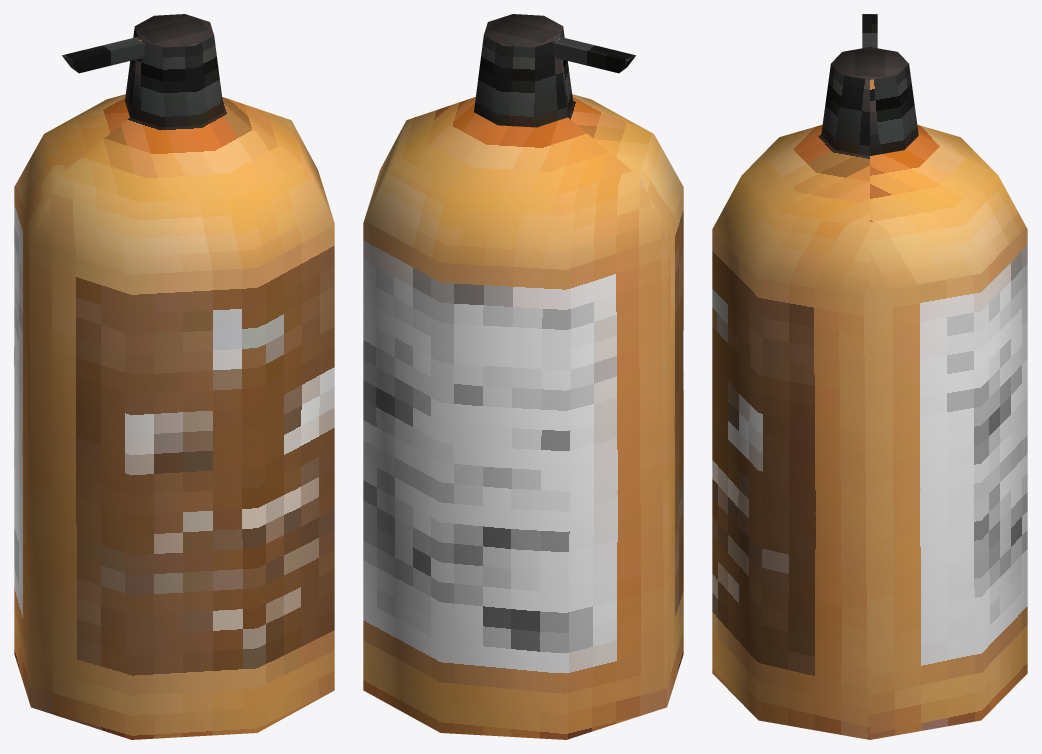
The model's file is Shampoo002.glb.
The picture shows the model from 3 angles, left to right: view 1: azimuth 30°, elevation 25°; view 2: azimuth 150°, elevation 25°; view 3: azimuth 270°, elevation 25°; orthographic projection. The views are drawn at different scales.
Visible parts, largest first — view 1: shampoo.002; view 2: shampoo.002; view 3: shampoo.002.
Part boxes in pixels (x1=…): shampoo.002: x1=14, y1=14, x2=334, y2=739; shampoo.002: x1=363, y1=14, x2=683, y2=739; shampoo.002: x1=712, y1=14, x2=1027, y2=739.
Bounding box in the file's own units: 0.0965 × 0.2059 × 0.0965.
Materials: 1 (1 with a texture image).
